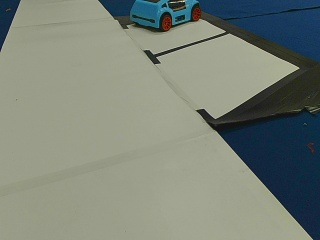car: (131, 1, 200, 31)
